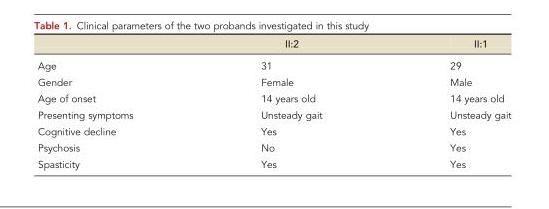table: (37, 37, 510, 169)
table column: (196, 37, 385, 169), (37, 37, 196, 169), (385, 37, 510, 169)
table column header: (37, 37, 510, 54)
table row: (37, 54, 510, 73), (37, 37, 510, 54), (37, 89, 510, 106), (37, 122, 510, 139), (37, 73, 510, 89), (37, 106, 510, 122), (37, 139, 510, 155), (37, 155, 510, 169)
